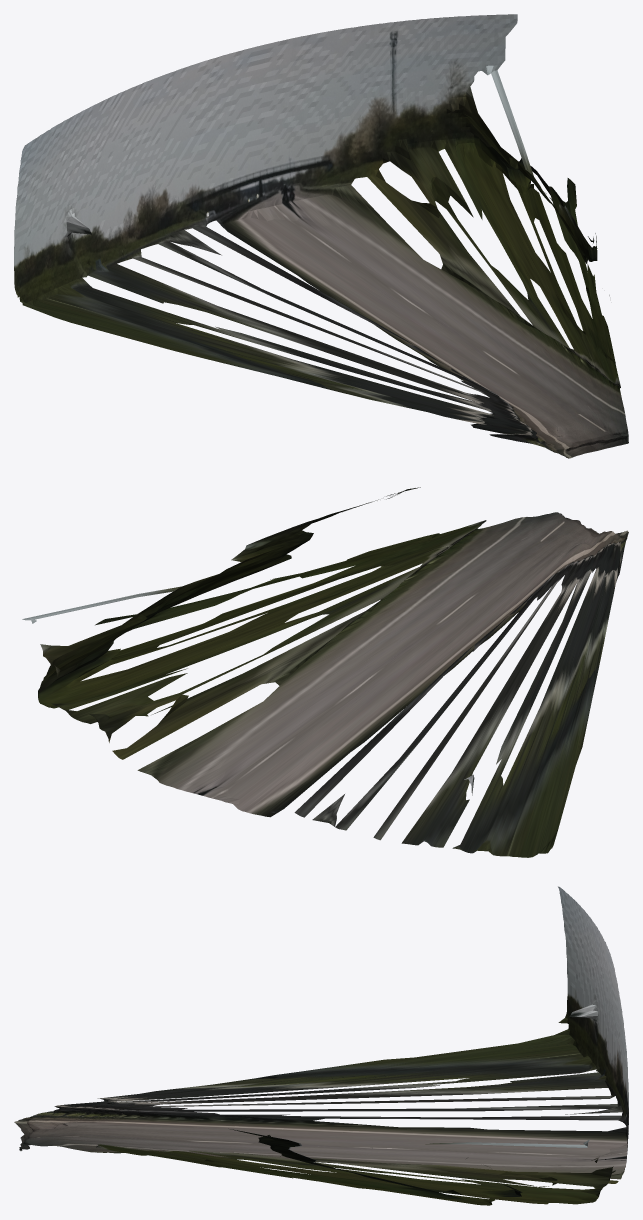
The picture shows the model from 3 angles, top to bottom: view 1: azimuth 30°, elevation 25°; view 2: azimuth 150°, elevation 25°; view 3: azimuth 270°, elevation 25°; orthographic projection. The views are drawn at different scales.
Visible parts, largest first — view 1: defaultobject; view 2: defaultobject; view 3: defaultobject.
Part boxes in pixels (x1,y1,x2,y2): defaultobject: (14, 14, 628, 458); defaultobject: (22, 487, 628, 857); defaultobject: (14, 886, 628, 1205).
Bounding box in the file's own units: 38.02 × 13.02 × 44.74.
1 material, 1 textured.
